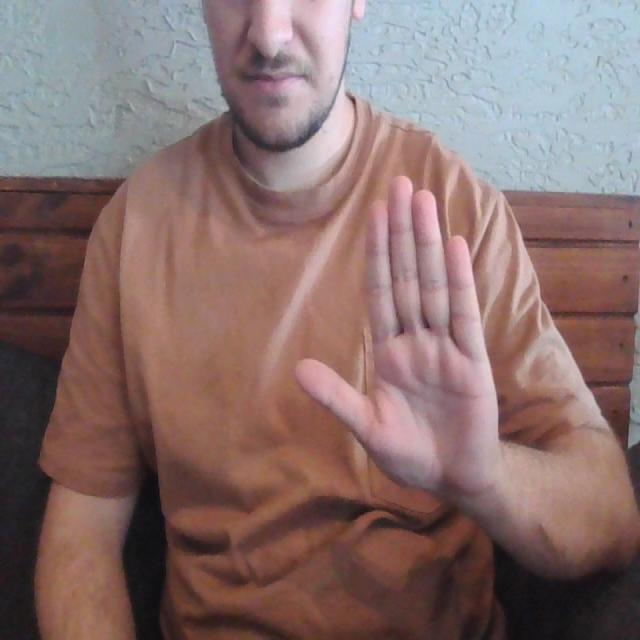Dur: (277, 152, 521, 509)
